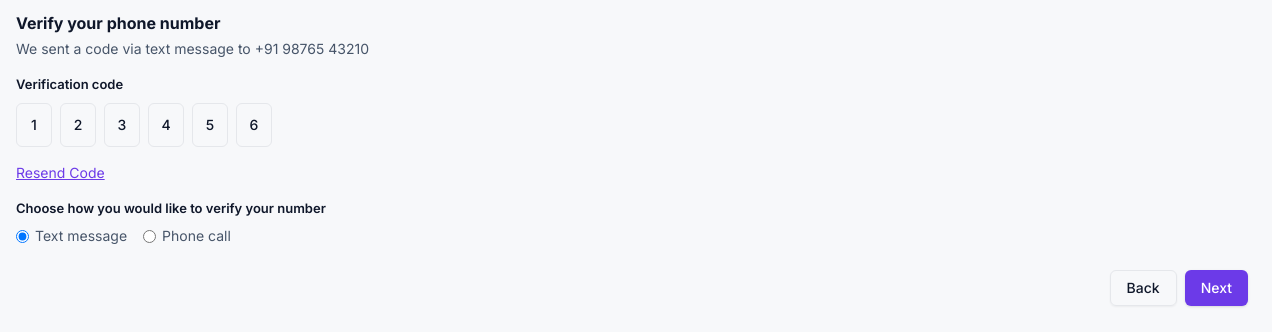
Test: VerifyPhoneStep › shows the resent toast after clicking Resend Code
Click the button with test id "verify-phone-resend": [60, 172] box [16,162,105,182]
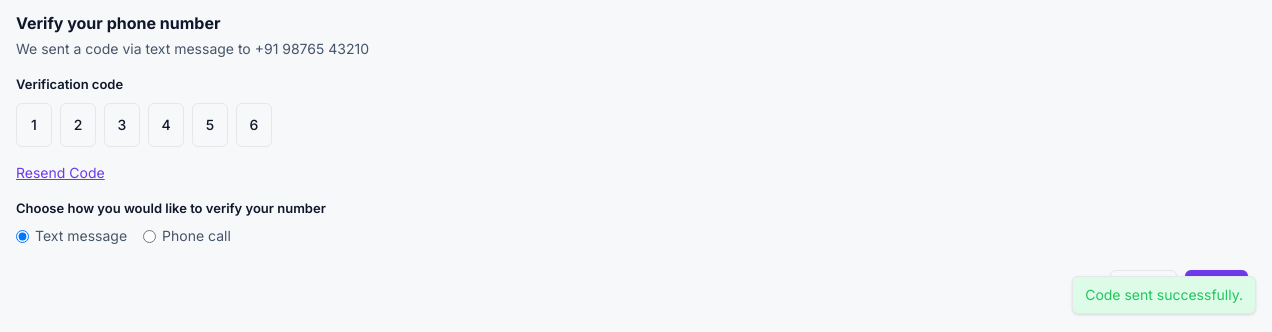
Result: the text "Code sent successfully." is shown at [1072,276,1256,314]
